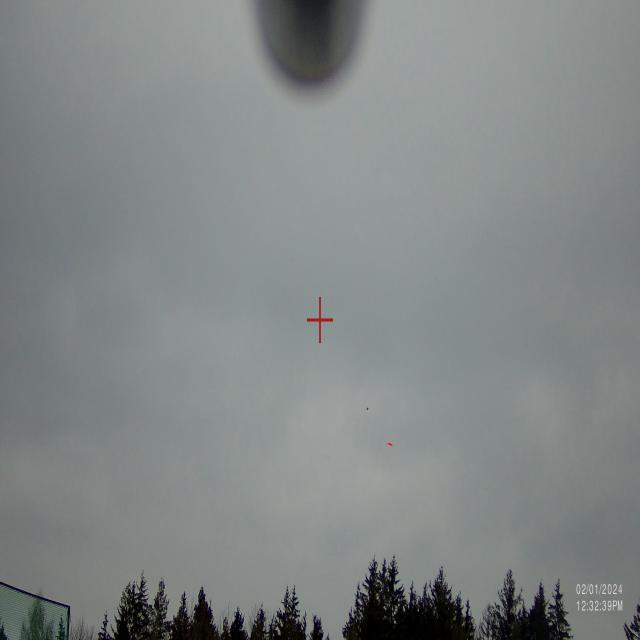entire: (383, 436, 398, 450)
